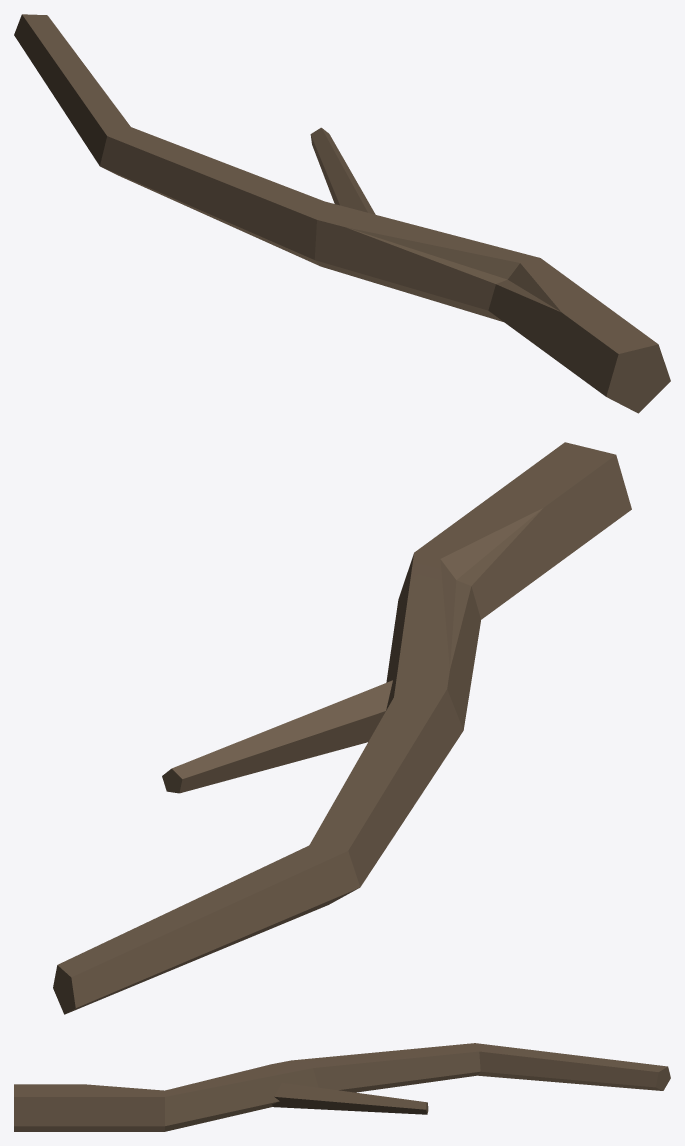
The model's file is Branch8.glb.
3 views of the same model, one above another, from view 1: azimuth 30°, elevation 25°; view 2: azimuth 150°, elevation 25°; view 3: azimuth 270°, elevation 25° (orthographic). The views are drawn at different scales.
Parts seen in each view (by area): view 1: Branch_6; view 2: Branch_6; view 3: Branch_6.
Part boxes in pixels (x1,y1,x2,y2): Branch_6: [14, 14, 670, 413]; Branch_6: [53, 442, 631, 1014]; Branch_6: [14, 1043, 670, 1131].
Bounding box in the file's own units: 0.4644 × 0.1351 × 1.95.
Materials: 1 (1 with a texture image).
